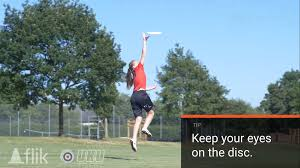disc: (145, 29, 161, 37)
